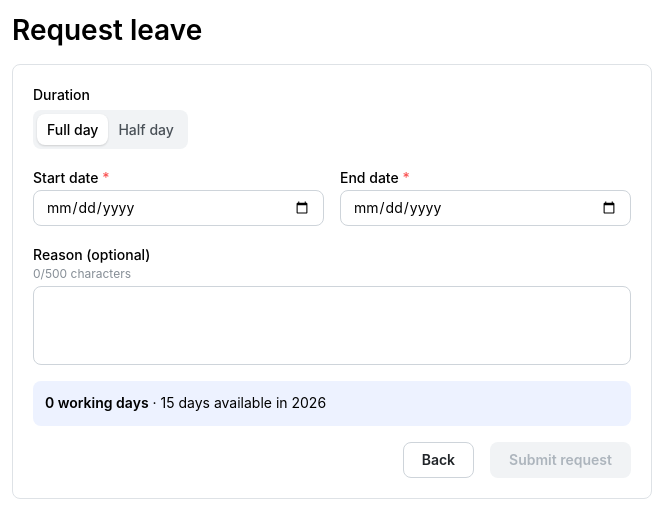
Test: NewRequest › switches to a single date with Morning/Afternoon for a half day
Click the radio button labelled "Half day" at (146, 129), box x1=118 y1=121 x2=174 y2=138
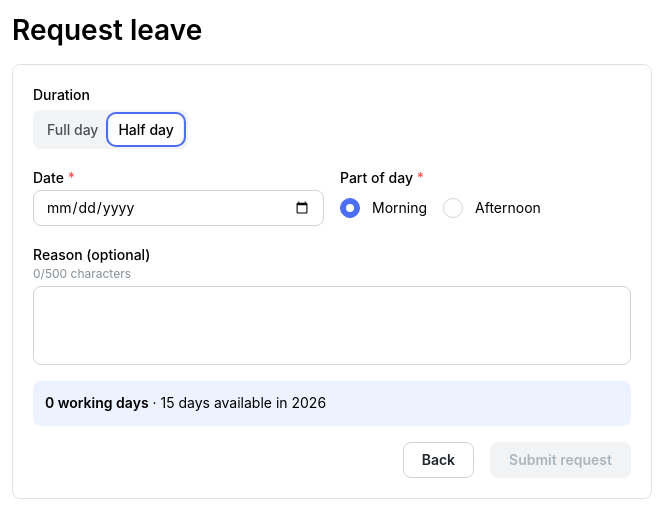
expect the label labelled "End date" is gone: met
expect the radio button labelled "Morning" is shown: met, box x1=340 y1=198 x2=360 y2=218
expect the radio button labelled "Afternoon" is shown: met, box x1=443 y1=198 x2=463 y2=218
Type "2026-11-03" into the date field labelled "Date *" at (178, 208), box x1=33 y1=190 x2=324 y2=226
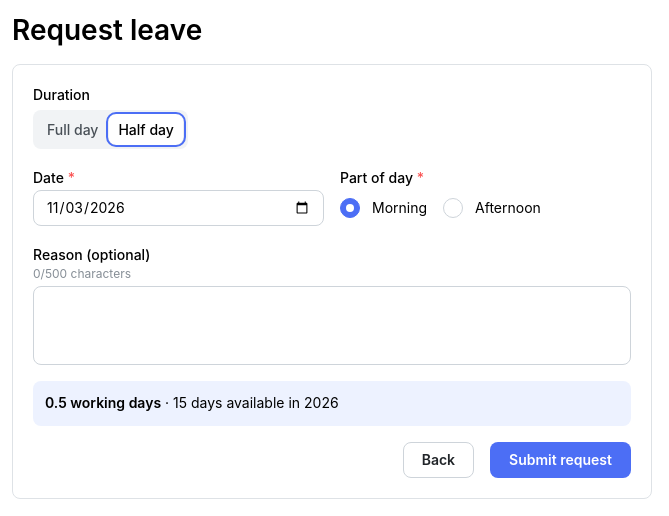
expect the text "0.5 working days" is shown: met, box x1=45 y1=394 x2=161 y2=411
